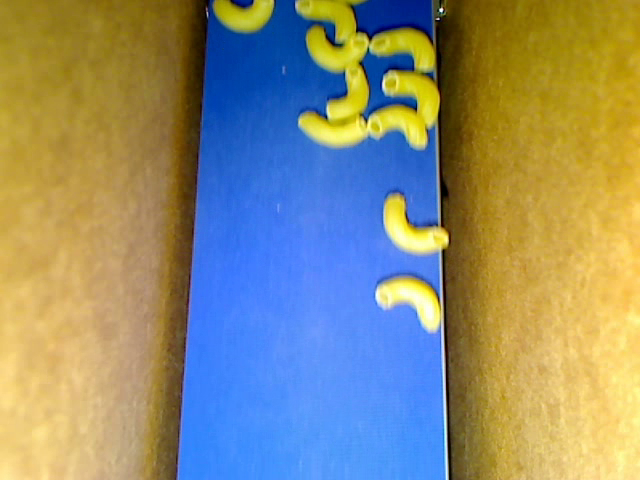elbow: (382, 191, 449, 255), (375, 273, 441, 333), (382, 70, 441, 128), (305, 26, 369, 75), (369, 27, 436, 73), (297, 109, 369, 150), (325, 62, 371, 123), (366, 104, 428, 149), (294, 1, 357, 44), (214, 1, 274, 35)
